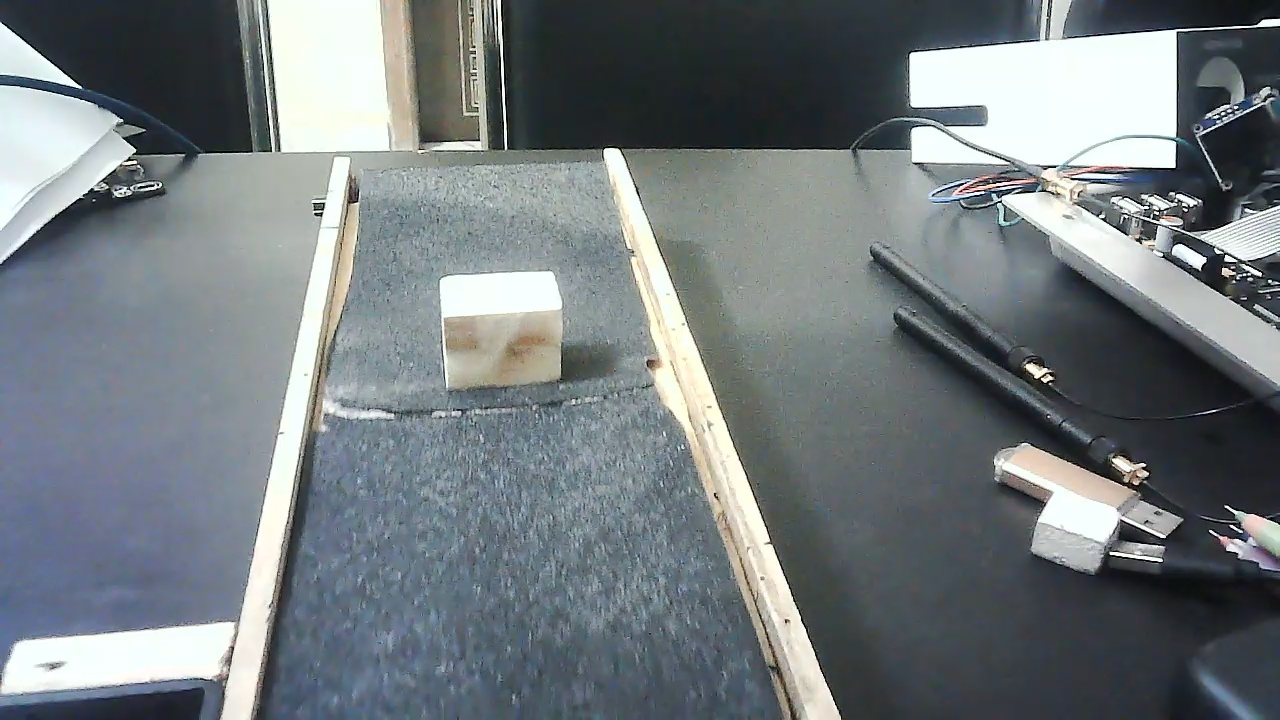Medium: (437, 266, 566, 395)
